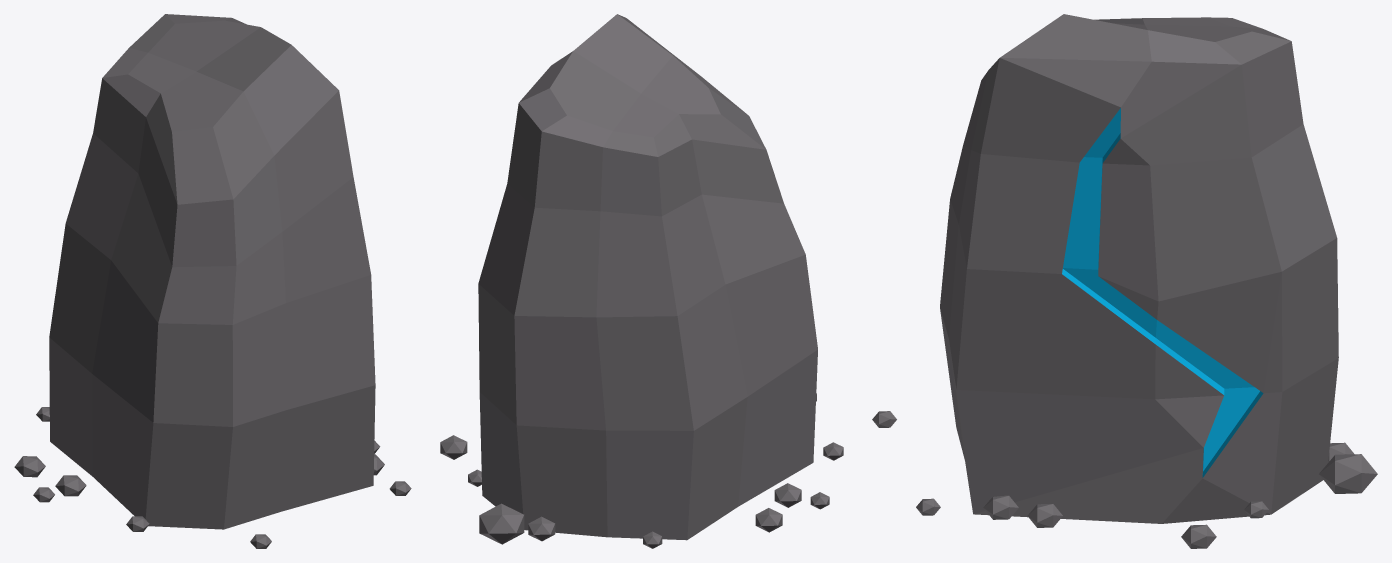
The model's file is rune1.fbx.
The picture shows the model from 3 angles, left to right: view 1: azimuth 30°, elevation 25°; view 2: azimuth 150°, elevation 25°; view 3: azimuth 270°, elevation 25°; orthographic projection. The views are drawn at different scales.
Visible parts, largest first — view 1: pPlatonic61; view 2: pPlatonic61; view 3: pPlatonic61.
Boxes of the visible parts, x1,y1,x2,y2 form: pPlatonic61: (14,14,411,548); pPlatonic61: (440,14,843,548); pPlatonic61: (872,14,1377,548).
Size of the model in its own units: 1.03 by 1.21 by 1.15.
